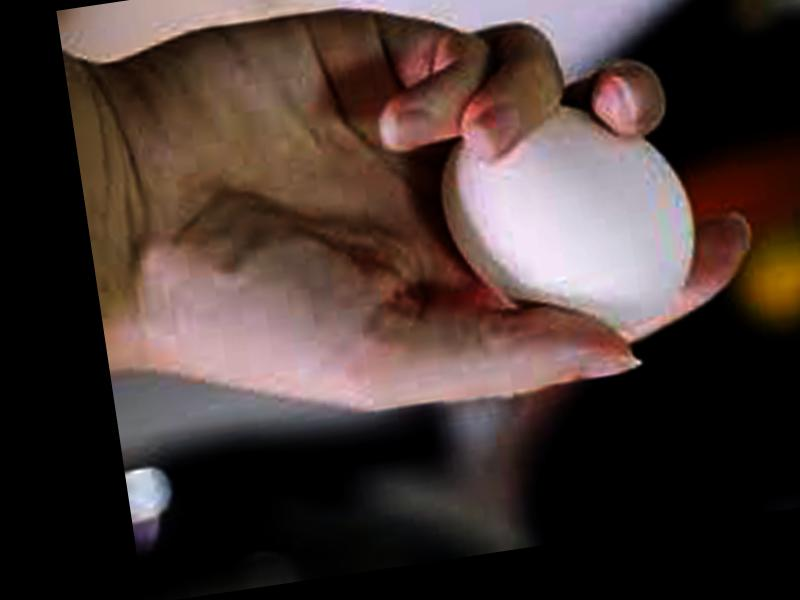Eggs: (432, 90, 710, 350)
